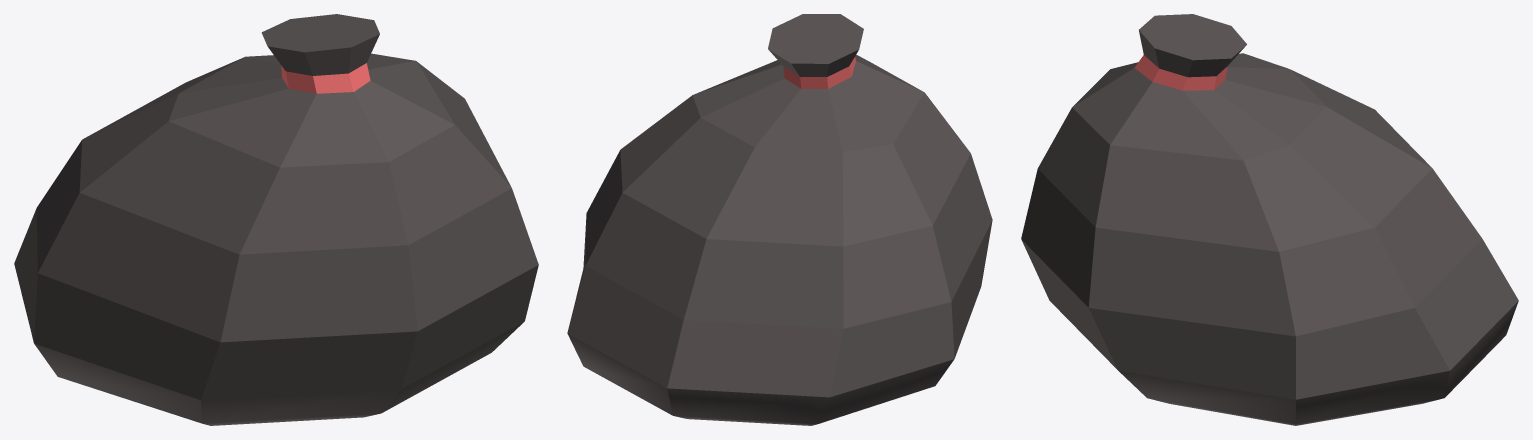
File: trashbag2.fbx
3 renders of one model, left to right at view 1: azimuth 30°, elevation 25°; view 2: azimuth 150°, elevation 25°; view 3: azimuth 270°, elevation 25°, orthographic. The views are drawn at different scales.
Parts seen in each view (by area): view 1: pCylinder138; view 2: pCylinder138; view 3: pCylinder138.
Boxes of the visible parts, x1,y1,x2,y2 form: pCylinder138: (14, 14, 538, 425); pCylinder138: (567, 14, 992, 425); pCylinder138: (1021, 14, 1518, 425).
Size of the model in its own units: 45.15 by 34 by 47.88.
